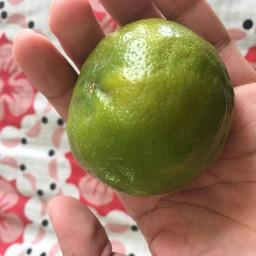Good_orange: (64, 11, 236, 196)
